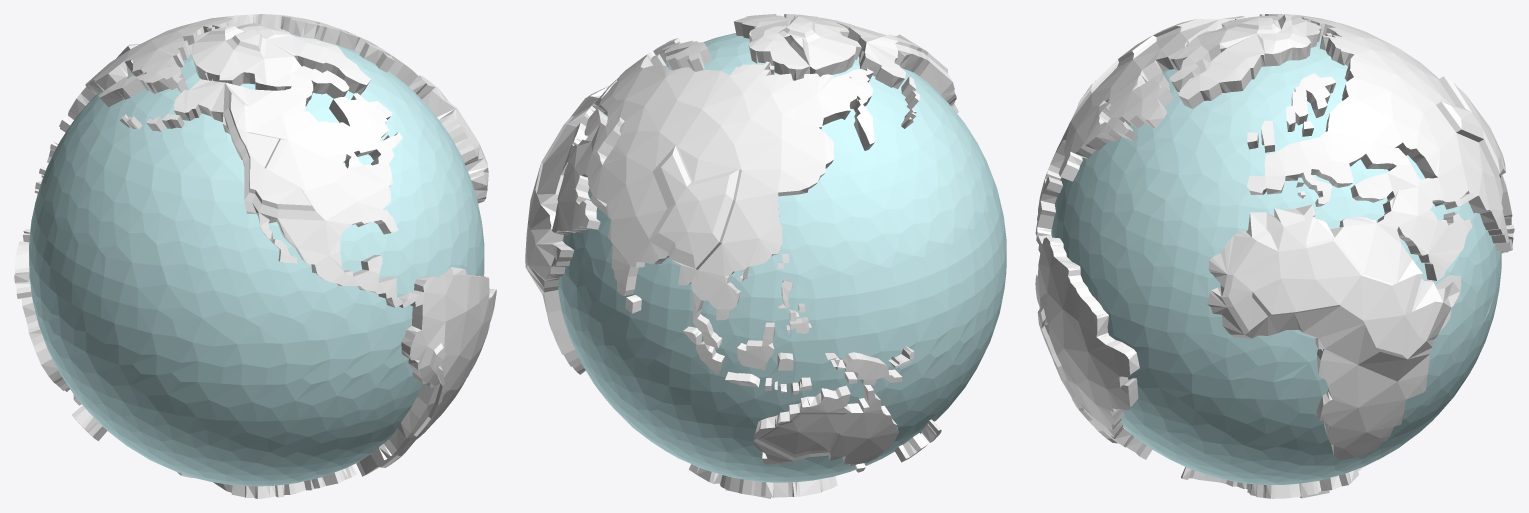
Rendered from globe.glb.
3 renders of one model, left to right at view 1: azimuth 30°, elevation 25°; view 2: azimuth 150°, elevation 25°; view 3: azimuth 270°, elevation 25°, orthographic.
Parts seen in each view (by area): view 1: Object; view 2: Object; view 3: Object.
Boxes of the visible parts, left/top/right/bottom form: Object: left=14, top=14, right=496, bottom=498; Object: left=525, top=14, right=1006, bottom=498; Object: left=1035, top=14, right=1514, bottom=498.
Size of the model in its own units: 2.09 by 2.23 by 2.09.
